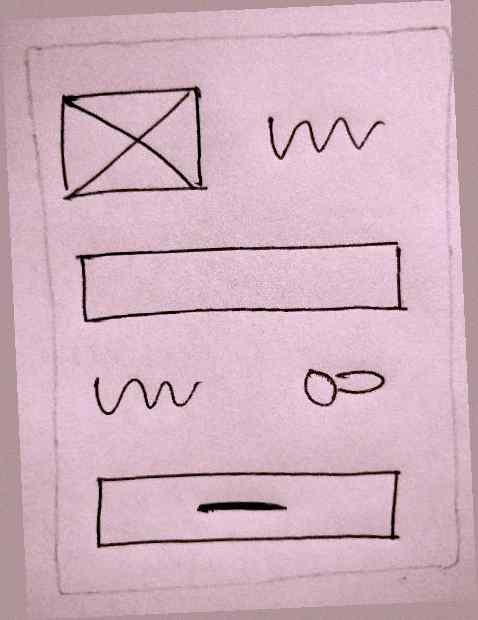button: (85, 453, 408, 563)
image: (49, 76, 217, 215)
switch: (289, 356, 401, 418)
text: (257, 104, 394, 170), (81, 364, 209, 426)
text_input: (70, 231, 414, 341)
